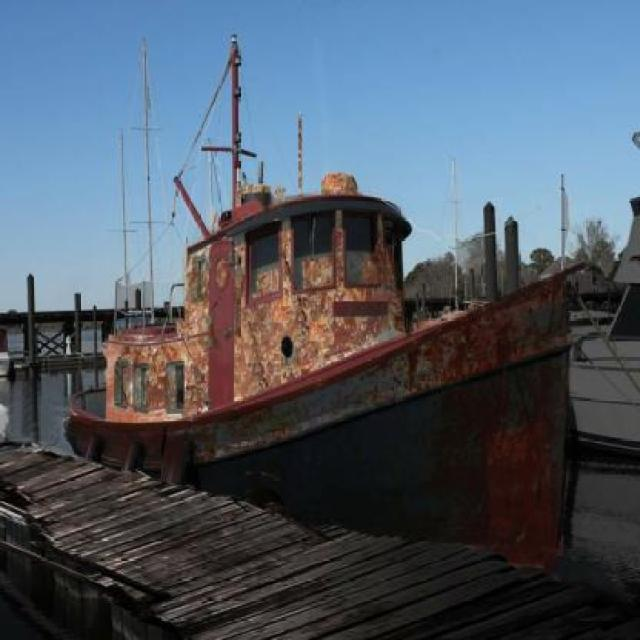corrosion: (69, 169, 574, 563)
